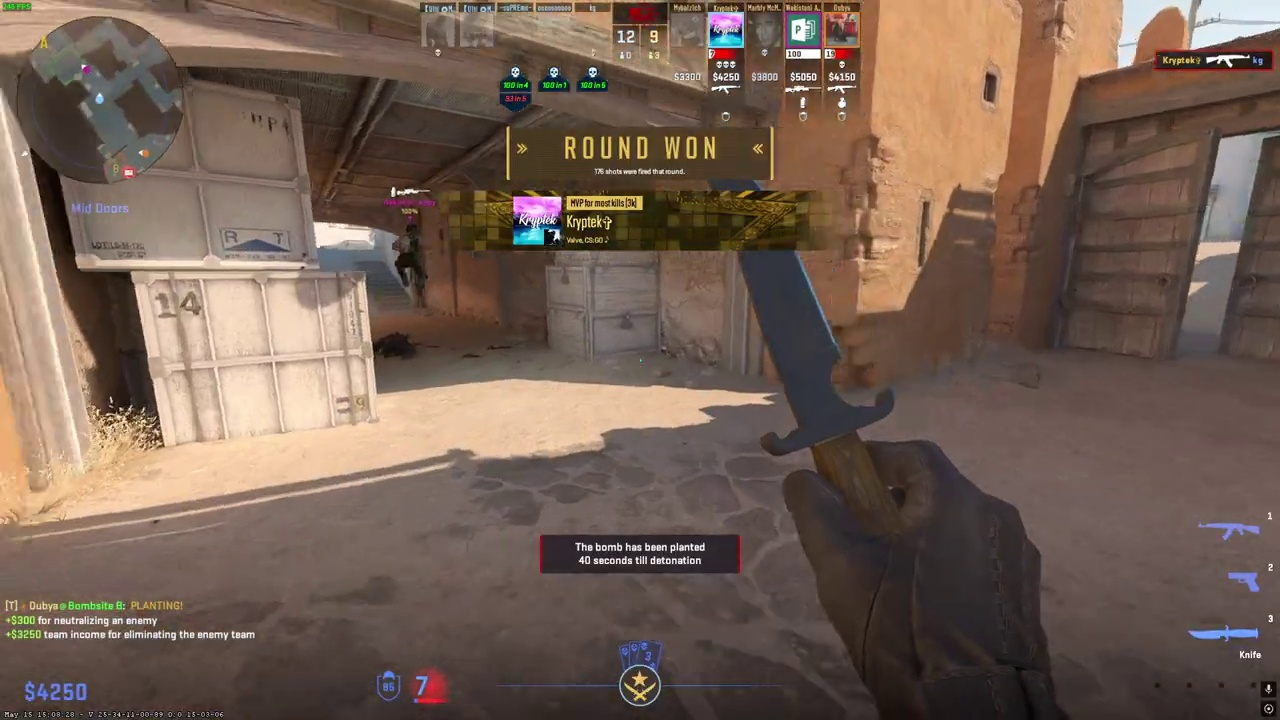Terrorist: (395, 223, 427, 296)
